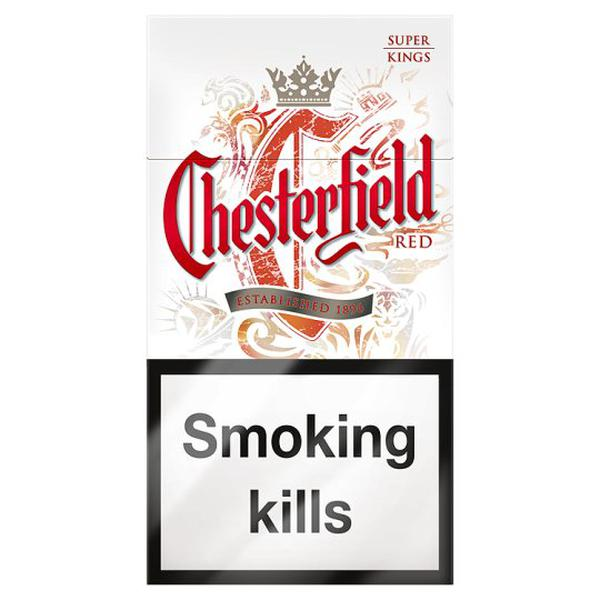chesterfield_red: (150, 19, 453, 584)
